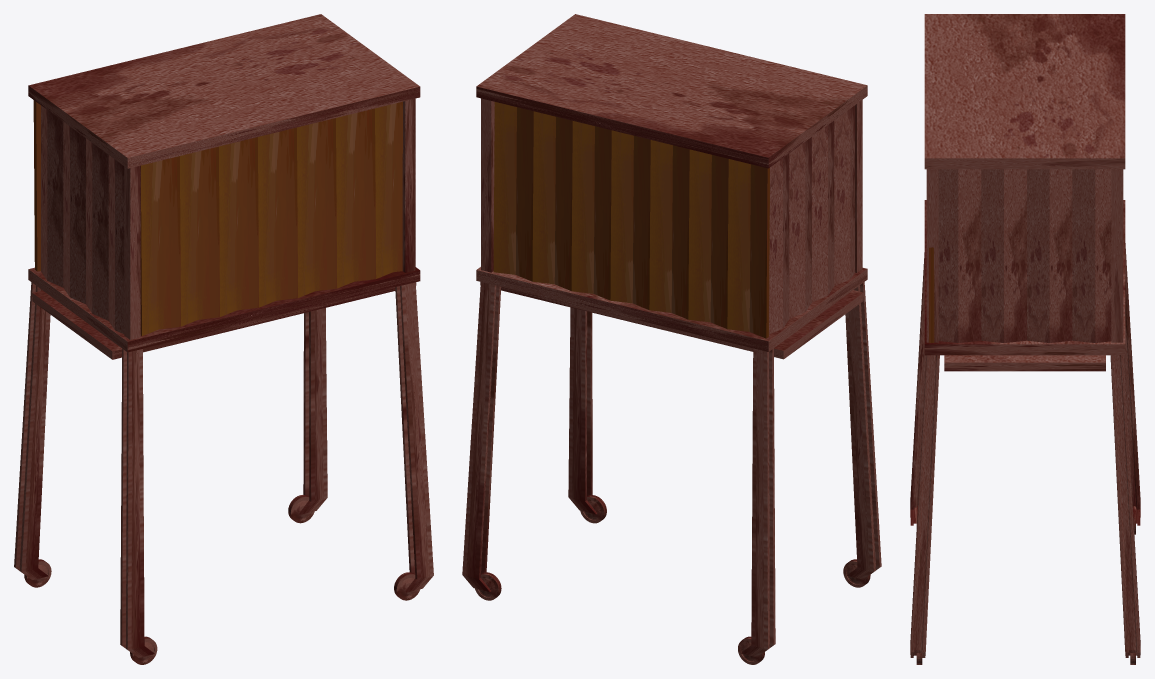
The model's file is container.fbx.
3 views of the same model, side by side, from view 1: azimuth 30°, elevation 25°; view 2: azimuth 150°, elevation 25°; view 3: azimuth 270°, elevation 25° (orthographic).
Parts seen in each view (by area): view 1: Cube.073, Cube.035, Cube.079, Cube.075, Cube.074, Cube.033, Cube.084, Cube.072, Cube.077; view 2: Cube.077, Cube.035, Cube.079, Cube.075, Cube.074, Cube.084, Cube.034, Cube.033; view 3: Cube.035, Cube.071, Cube.079, Cube.074, Cube.084, Cube.034, Cube.072, Cube.073.
Boxes of the visible parts, <box> form: Cube.073: <box>140,101,402,335</box>; Cube.035: <box>28,14,420,168</box>; Cube.079: <box>14,282,433,664</box>; Cube.075: <box>41,105,124,333</box>; Cube.074: <box>28,267,420,352</box>; Cube.033: <box>124,165,140,339</box>; Cube.084: <box>32,282,416,359</box>; Cube.072: <box>402,98,415,272</box>; Cube.077: <box>33,100,40,271</box>; Cube.077: <box>493,102,769,338</box>; Cube.035: <box>476,14,867,168</box>; Cube.079: <box>462,282,881,664</box>; Cube.075: <box>769,105,854,334</box>; Cube.074: <box>476,267,867,351</box>; Cube.084: <box>480,282,863,359</box>; Cube.034: <box>481,98,494,272</box>; Cube.033: <box>855,100,862,272</box>; Cube.035: <box>924,14,1125,169</box>; Cube.071: <box>938,169,1111,342</box>; Cube.079: <box>910,243,1140,664</box>; Cube.074: <box>924,200,1125,355</box>; Cube.084: <box>944,355,1105,371</box>; Cube.034: <box>1111,169,1123,342</box>; Cube.072: <box>926,169,938,342</box>; Cube.073: <box>929,247,934,342</box>.
Size of the model in its own units: 1571 by 2482 by 1011.
2 materials, 2 textured.
